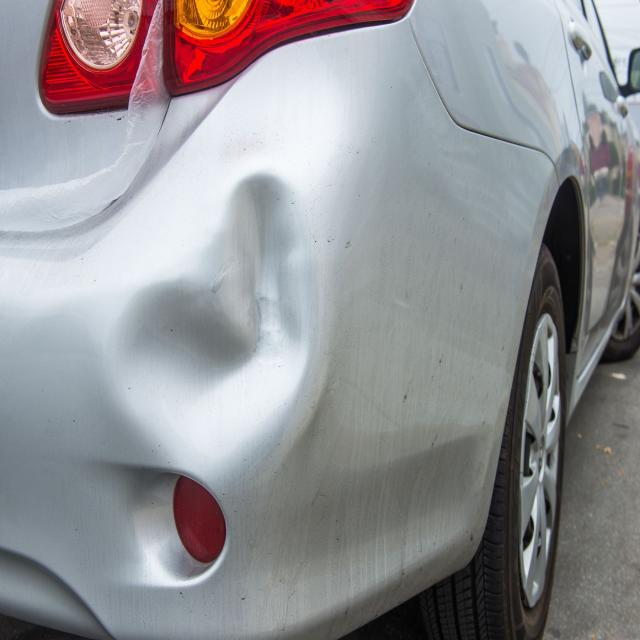dent: (104, 159, 342, 479)
scratch: (99, 194, 124, 217)
